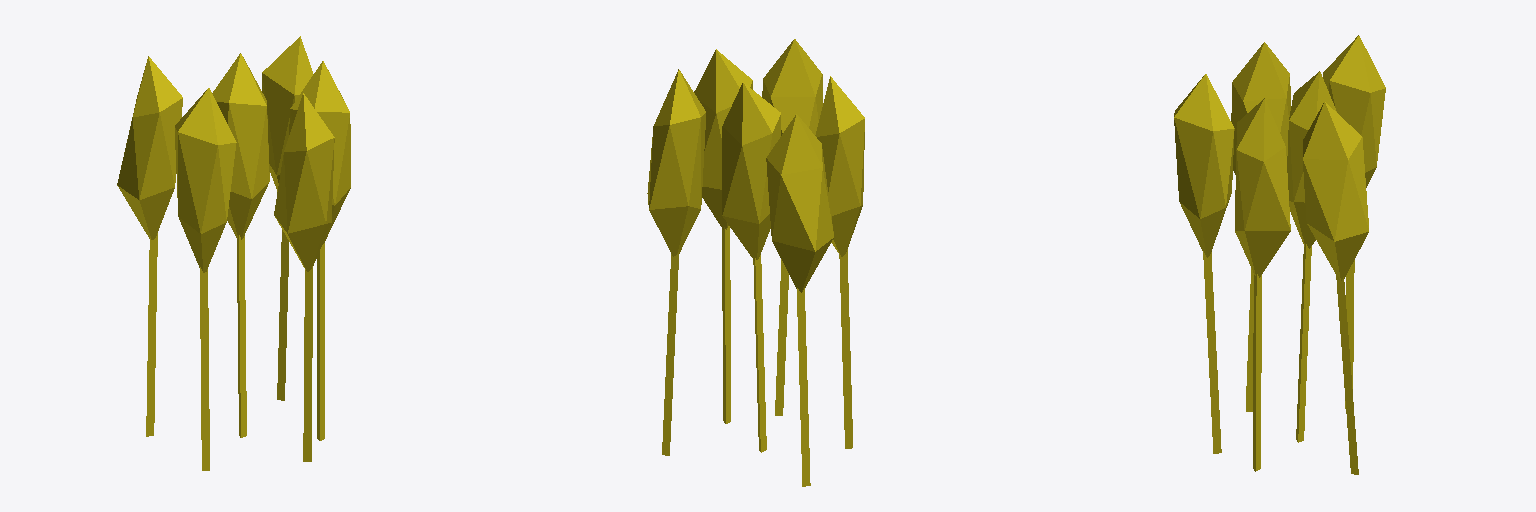
File: wheat.obj
The picture shows the model from 3 angles: view 1: azimuth 30°, elevation 25°; view 2: azimuth 150°, elevation 25°; view 3: azimuth 270°, elevation 25°; orthographic projection.
Visible parts, largest first — view 1: Cylinder, Cylinder.002, Cylinder.003, Cylinder.004, Cylinder.005, Cylinder.001; view 2: Cylinder.002, Cylinder.001, Cylinder.004, Cylinder, Cylinder.005, Cylinder.003; view 3: Cylinder.001, Cylinder.003, Cylinder.005, Cylinder.002, Cylinder.004, Cylinder.
Boxes of the visible parts, <box> form: Cylinder: <box>175,88,236,470</box>; Cylinder.002: <box>117,56,182,436</box>; Cylinder.003: <box>274,93,334,461</box>; Cylinder.004: <box>212,53,269,437</box>; Cylinder.005: <box>289,61,350,440</box>; Cylinder.001: <box>262,36,312,400</box>; Cylinder.002: <box>766,114,833,486</box>; Cylinder.001: <box>647,69,705,455</box>; Cylinder.004: <box>722,82,780,452</box>; Cylinder: <box>815,76,864,448</box>; Cylinder.005: <box>694,49,752,423</box>; Cylinder.003: <box>762,39,822,415</box>; Cylinder.001: <box>1303,102,1368,474</box>; Cylinder.003: <box>1174,74,1234,453</box>; Cylinder.005: <box>1235,98,1290,471</box>; Cylinder.002: <box>1323,35,1385,408</box>; Cylinder.004: <box>1287,71,1336,442</box>; Cylinder: <box>1231,42,1290,411</box>.
Bounding box in the file's own units: 1.39 × 2.68 × 1.37.